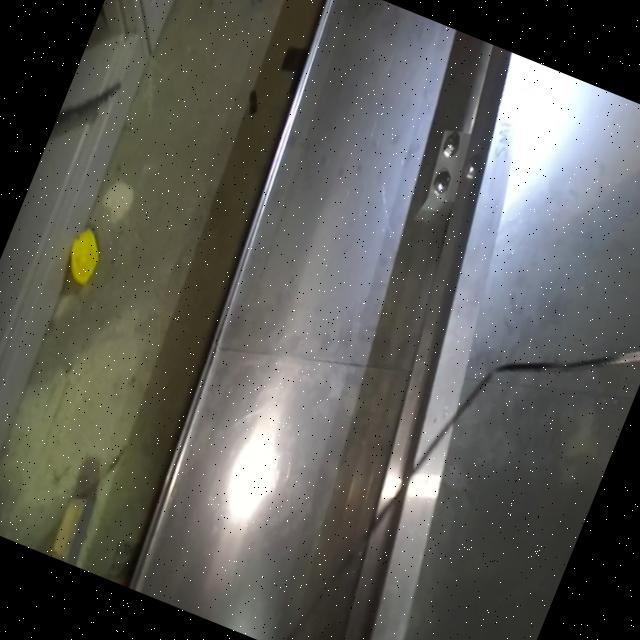blocks: (406, 103, 535, 245)
